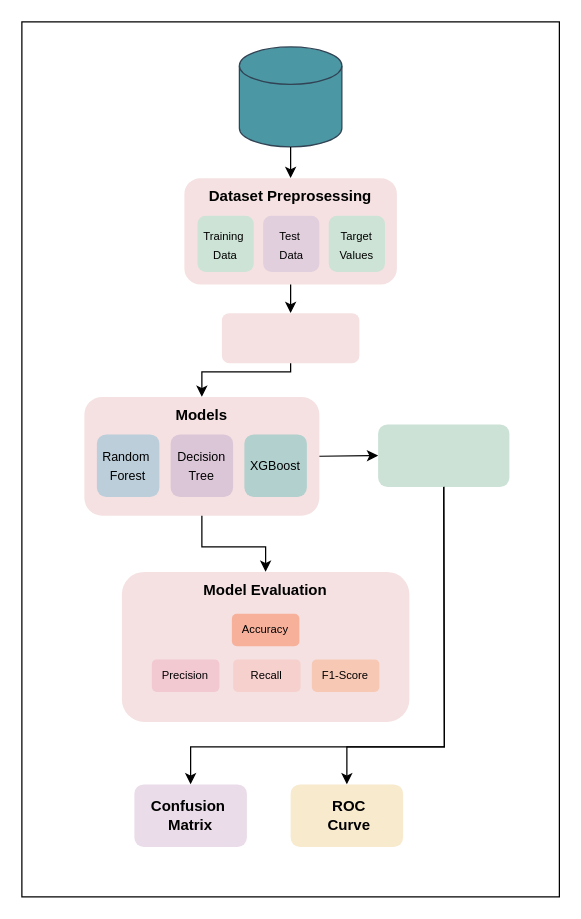
The diagram is 581 pixels wide and 919 high, and some of its shapes have lost their labels. The box of each missing label's shape, as (x1, y1, x2, y2) in pixels:
Ensamble Model: (378, 424, 509, 486)
Feature Scaling: (221, 312, 359, 362)
Thyroid Risk Prediction Data: (238, 46, 342, 147)
